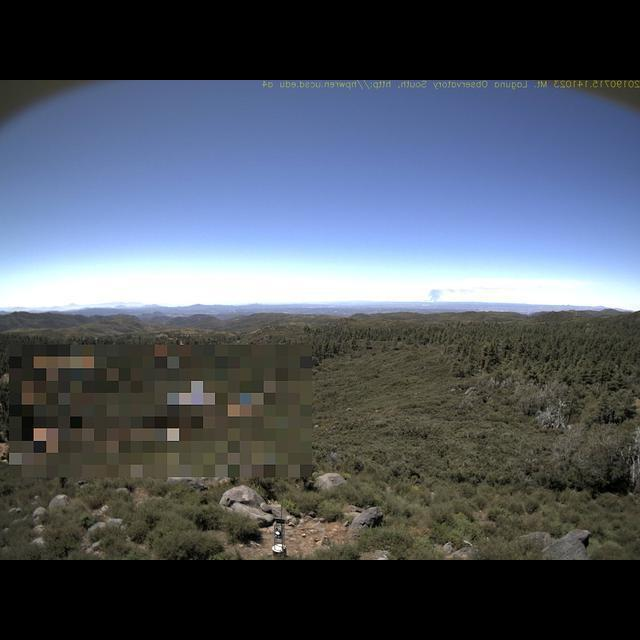Smoke: (428, 287, 463, 308)
